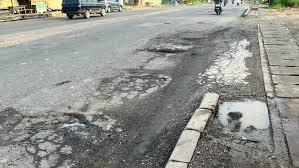Pothole: (204, 78, 274, 140), (46, 104, 105, 141), (112, 69, 173, 87), (143, 45, 205, 59)
